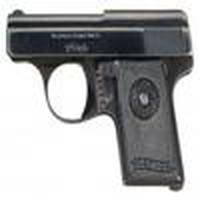gun: (3, 10, 192, 200)
